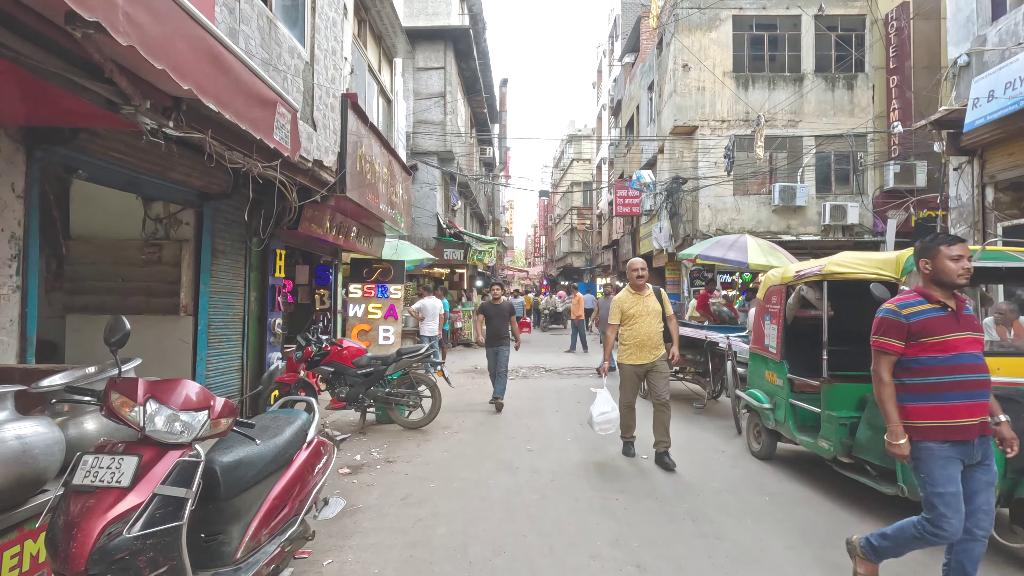garbage: (587, 372, 619, 438)
